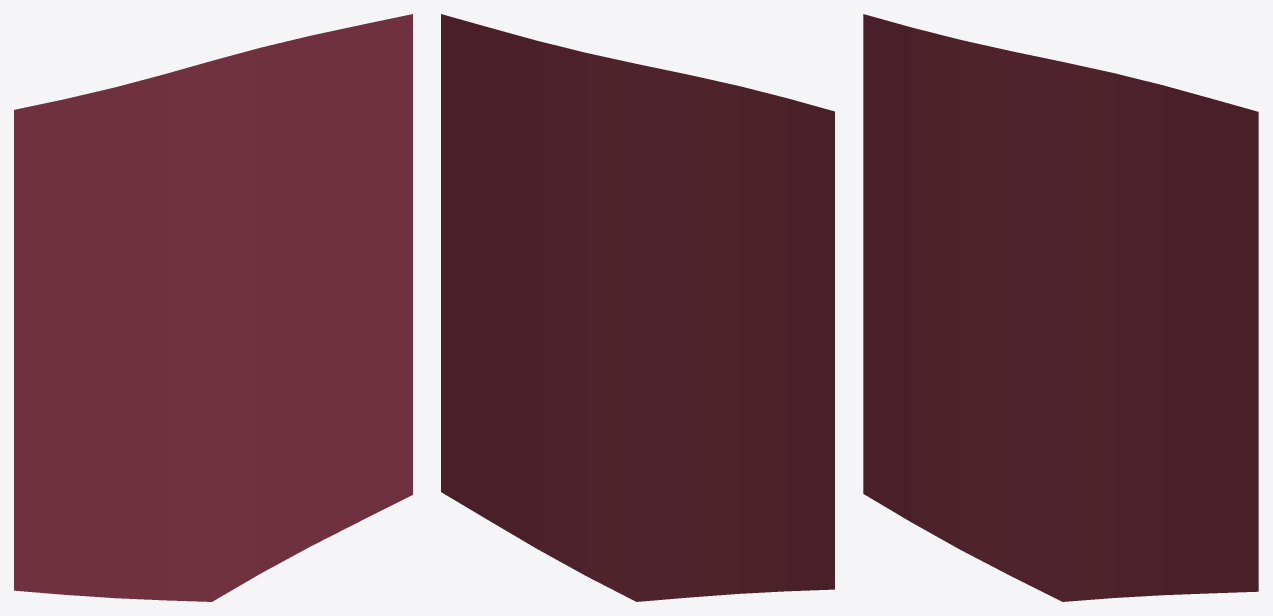
File: flag_gryffindor.glb
3 renders of one model, left to right at view 1: azimuth 30°, elevation 25°; view 2: azimuth 150°, elevation 25°; view 3: azimuth 330°, elevation 25°, orthographic.
Visible parts, largest first — view 1: flag_gryffindor.001; view 2: flag_gryffindor.001; view 3: flag_gryffindor.001.
Part boxes in pixels (left/top/right/bottom): flag_gryffindor.001: left=14, top=14, right=412, bottom=601; flag_gryffindor.001: left=441, top=14, right=834, bottom=601; flag_gryffindor.001: left=863, top=14, right=1258, bottom=601.
Size of the model in its own units: 1.86 by 2.42 by 0.0347.
